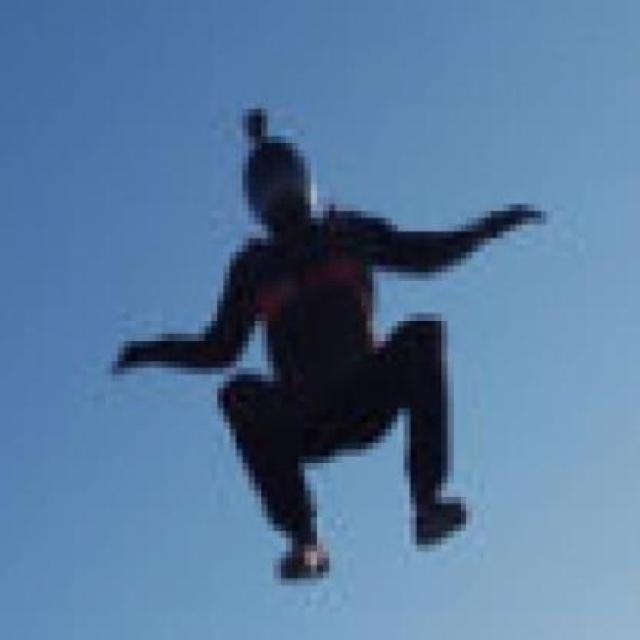fall: (110, 99, 555, 599)
